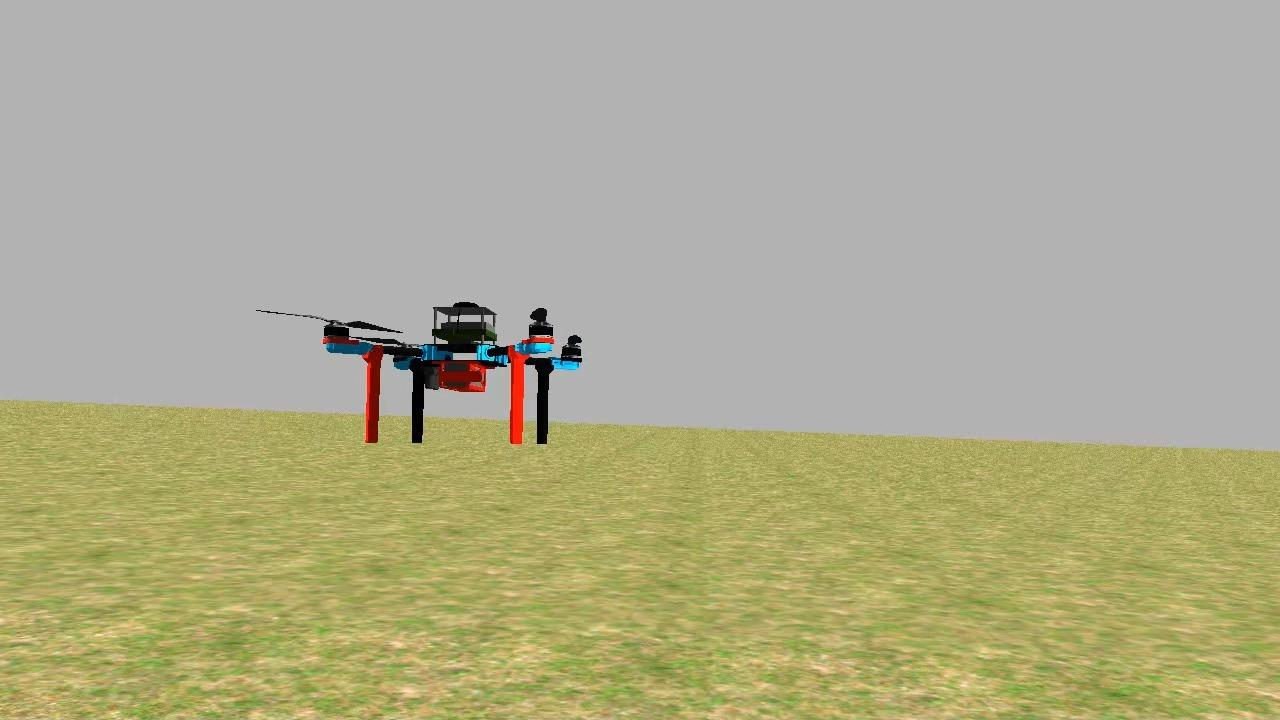UAV: (310, 288, 588, 446)
